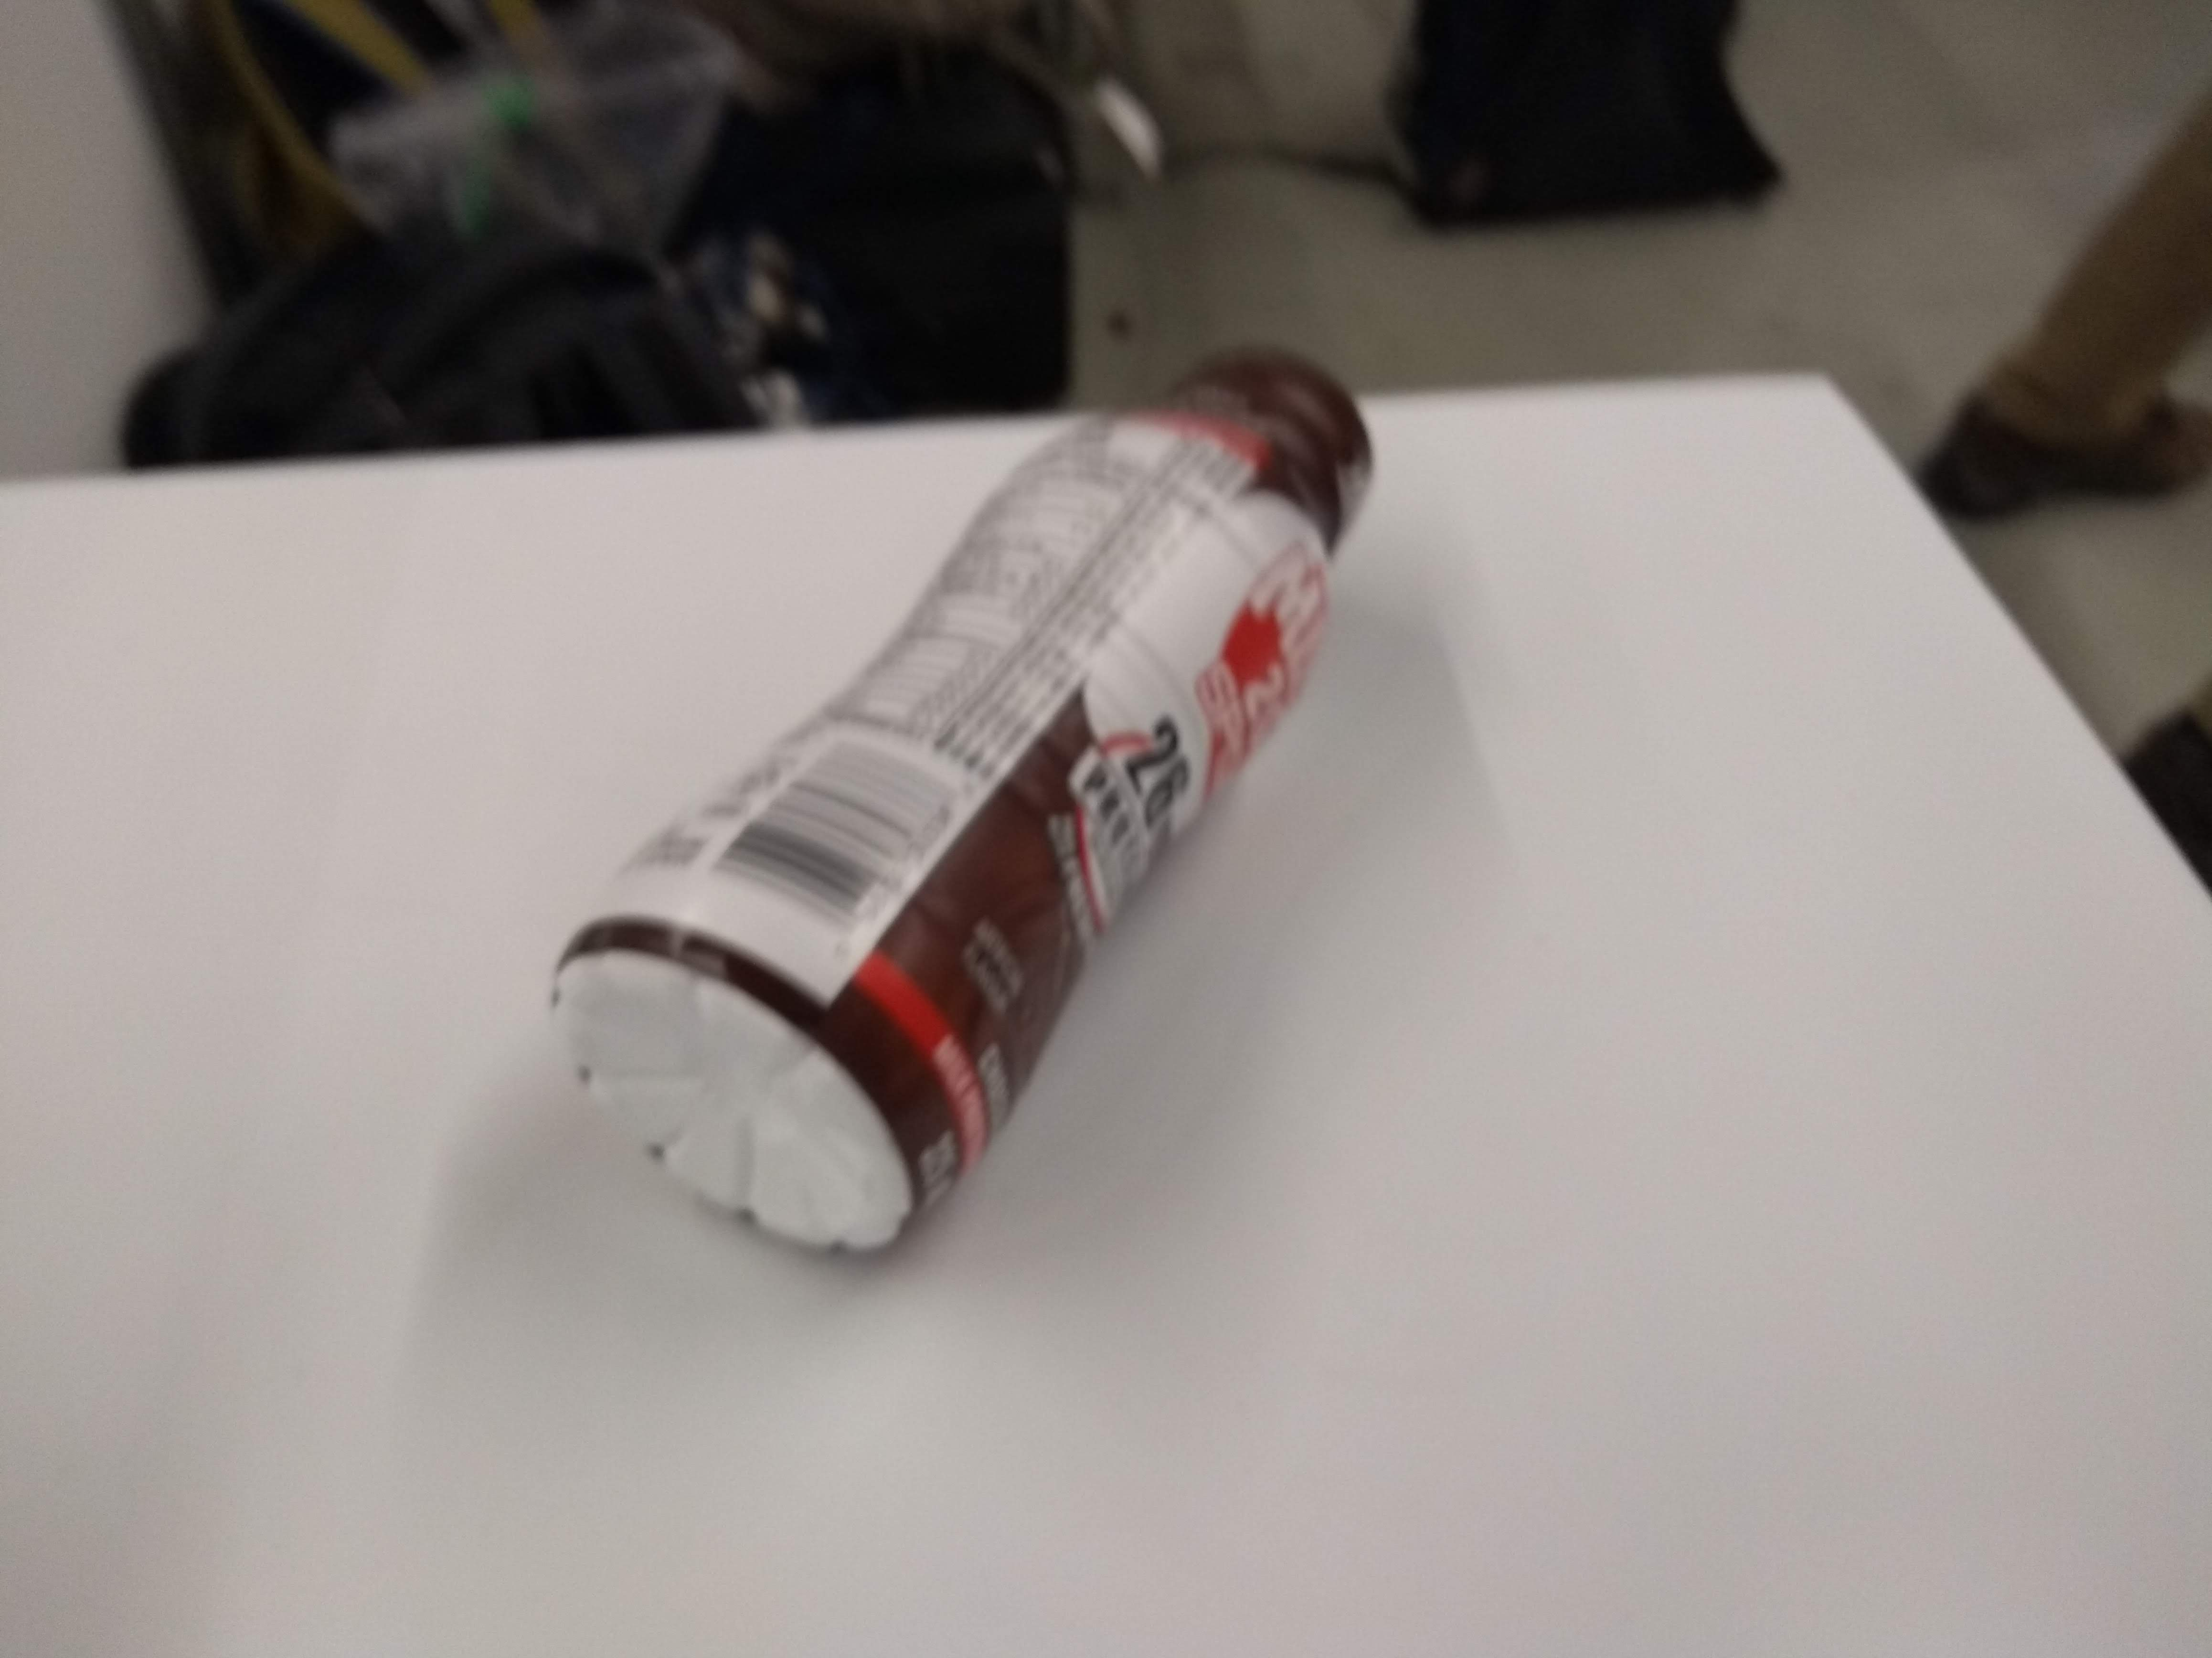chocolate_drink: (531, 334, 1407, 1273)
